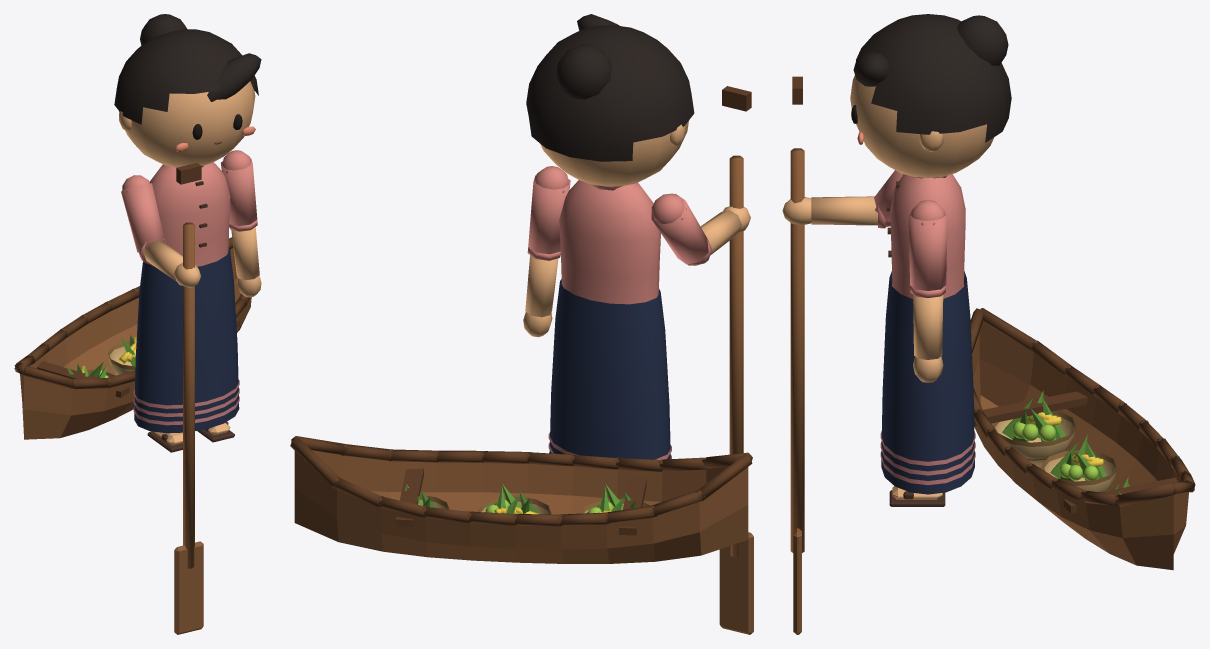
Rendered from era1_boat_vendor.glb.
The picture shows the model from 3 angles, left to right: view 1: azimuth 30°, elevation 25°; view 2: azimuth 150°, elevation 25°; view 3: azimuth 270°, elevation 25°; orthographic projection. The views are drawn at different scales.
Parts seen in each view (by area): view 1: body, head, prop_boat, prop_paddle, arm_R, arm_L, forearm_L, forearm_R, shin_R, shin_L; view 2: prop_boat, body, head, prop_paddle, arm_L, arm_R, forearm_L, forearm_R; view 3: prop_boat, head, body, prop_paddle, arm_L, forearm_L, forearm_R, shin_L, arm_R.
Part boxes in pixels (x1,y1,x2,y2): body: [133, 162, 239, 433]; head: [114, 14, 261, 167]; prop_boat: [14, 237, 251, 439]; prop_paddle: [174, 163, 203, 634]; arm_R: [121, 175, 165, 256]; arm_L: [221, 150, 257, 226]; forearm_L: [229, 220, 261, 297]; forearm_R: [138, 239, 201, 287]; shin_R: [147, 431, 182, 452]; shin_L: [197, 422, 234, 442]; prop_boat: [290, 436, 752, 563]; body: [548, 180, 671, 459]; head: [526, 14, 694, 186]; prop_paddle: [719, 86, 753, 634]; arm_L: [528, 166, 570, 254]; arm_R: [651, 193, 708, 265]; forearm_L: [523, 247, 560, 337]; forearm_R: [692, 206, 750, 265]; prop_boat: [970, 308, 1195, 570]; head: [850, 14, 1011, 178]; body: [880, 174, 975, 494]; prop_paddle: [790, 76, 804, 634]; arm_L: [908, 200, 947, 290]; forearm_L: [910, 285, 946, 382]; forearm_R: [782, 196, 890, 228]; shin_L: [889, 486, 945, 506]; arm_R: [874, 170, 903, 226].
Bounding box in the file's own units: 1.21 × 2 × 1.17.
